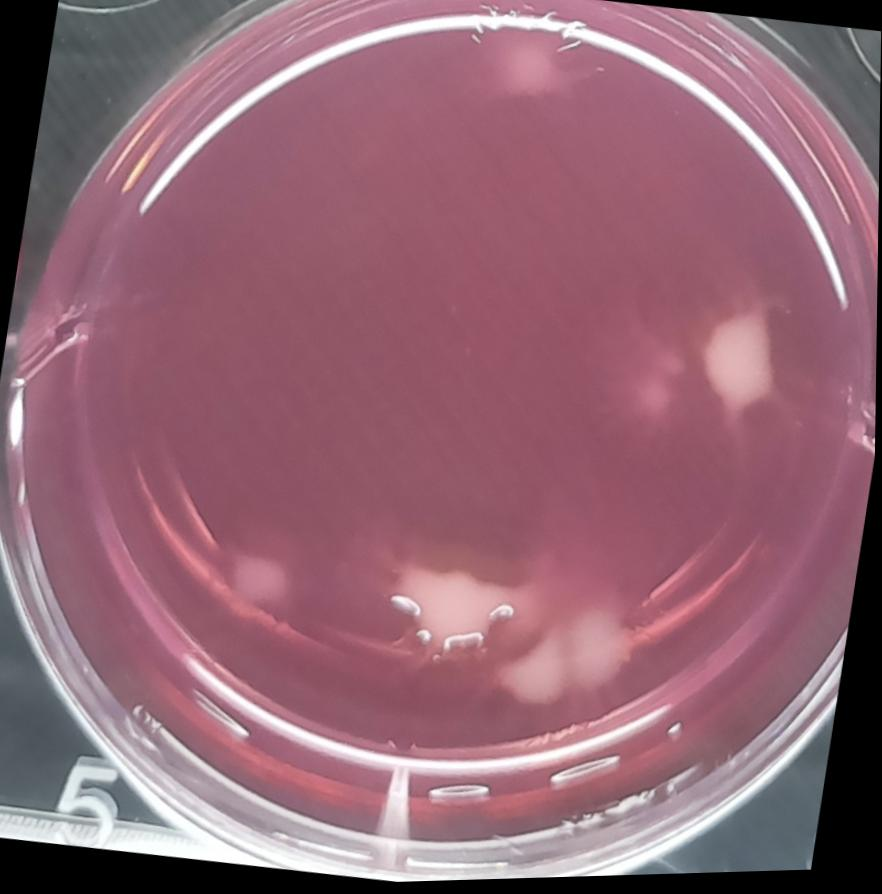vproteolyticus: (617, 255, 843, 494), (349, 518, 545, 687), (490, 578, 667, 734), (441, 0, 621, 152), (207, 523, 307, 631)
